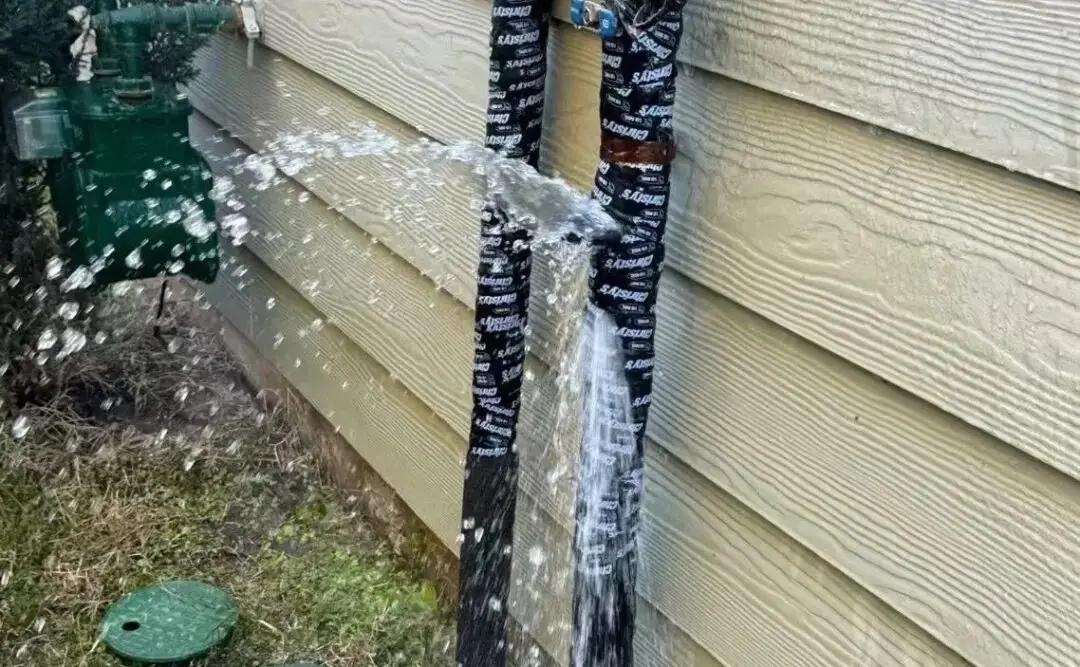pipe burst: (106, 122, 621, 246), (495, 294, 651, 648)
